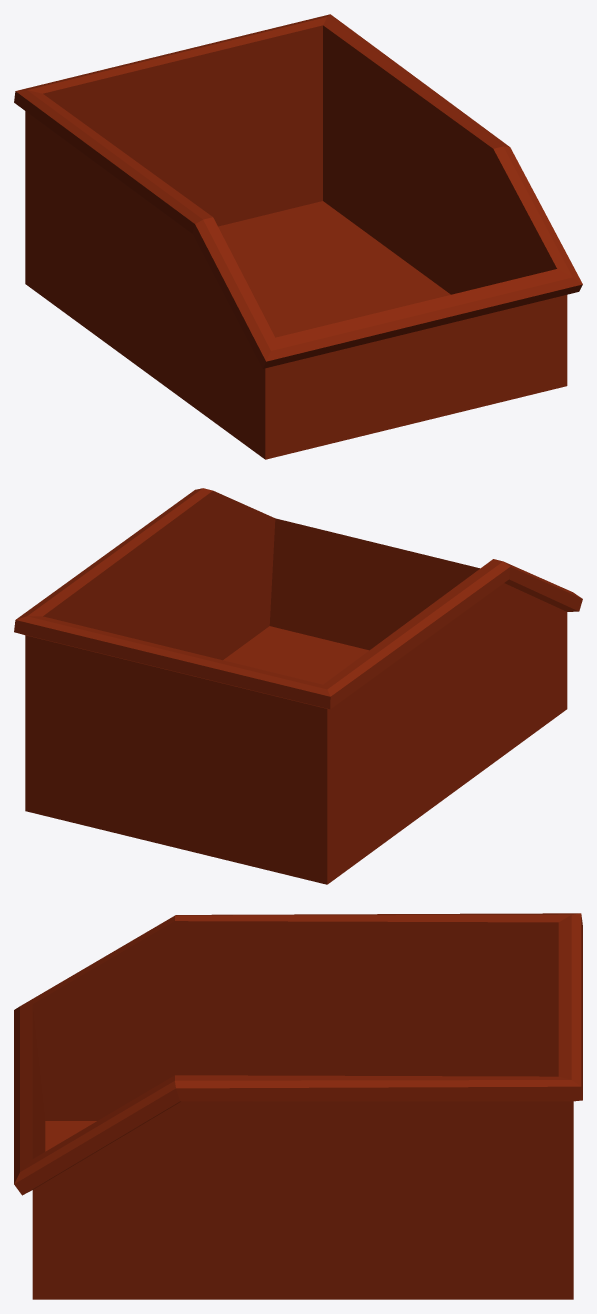
Rendered from ConatinerV1.fbx.
3 renders of one model, top to bottom at view 1: azimuth 30°, elevation 25°; view 2: azimuth 150°, elevation 25°; view 3: azimuth 270°, elevation 25°, orthographic. The views are drawn at different scales.
Parts seen in each view (by area): view 1: ConatinerV1; view 2: ConatinerV1; view 3: ConatinerV1.
Part boxes in pixels (x1,y1,x2,y2): ConatinerV1: [14, 14, 582, 459]; ConatinerV1: [14, 488, 582, 884]; ConatinerV1: [14, 913, 582, 1299].
Size of the model in its own units: 19.95 by 11.7 by 27.52.
